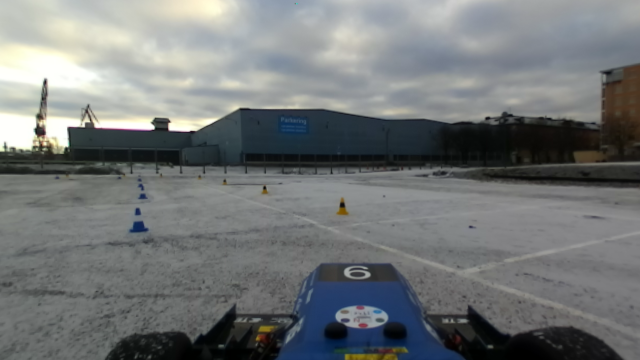blue: (128, 209, 148, 234)
yellow: (335, 196, 349, 216)
